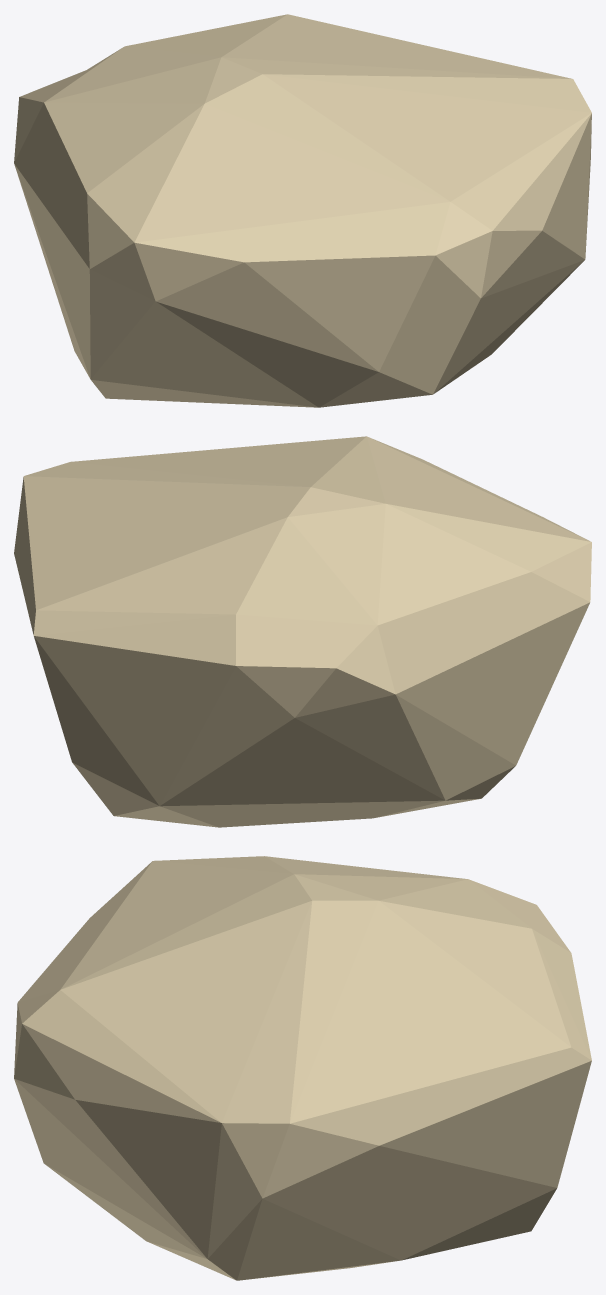
Rendered from stone_001.fbx.
The picture shows the model from 3 angles, top to bottom: view 1: azimuth 30°, elevation 25°; view 2: azimuth 150°, elevation 25°; view 3: azimuth 270°, elevation 25°; orthographic projection. The views are drawn at different scales.
Parts seen in each view (by area): view 1: Icosphere.002; view 2: Icosphere.002; view 3: Icosphere.002.
Part boxes in pixels (x1=…): Icosphere.002: x1=14, y1=14, x2=591, y2=407; Icosphere.002: x1=14, y1=436, x2=591, y2=827; Icosphere.002: x1=14, y1=856, x2=591, y2=1280.
Size of the model in its own units: 1.27 by 0.666 by 1.16.
